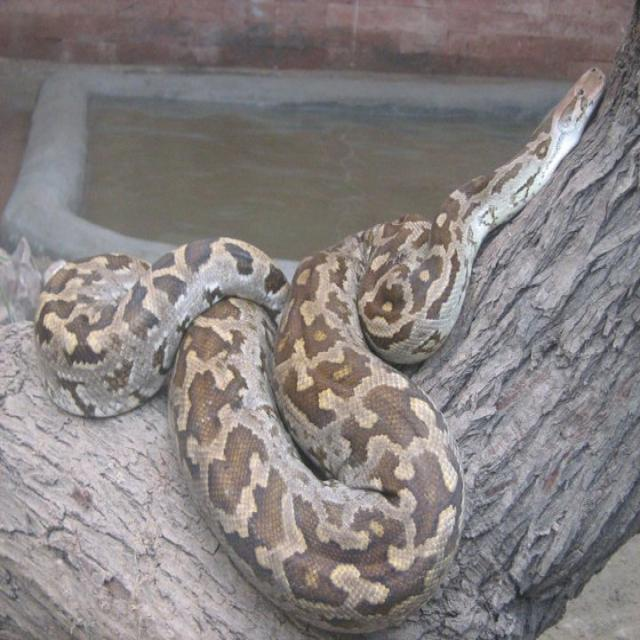Snake: (32, 63, 606, 636)
